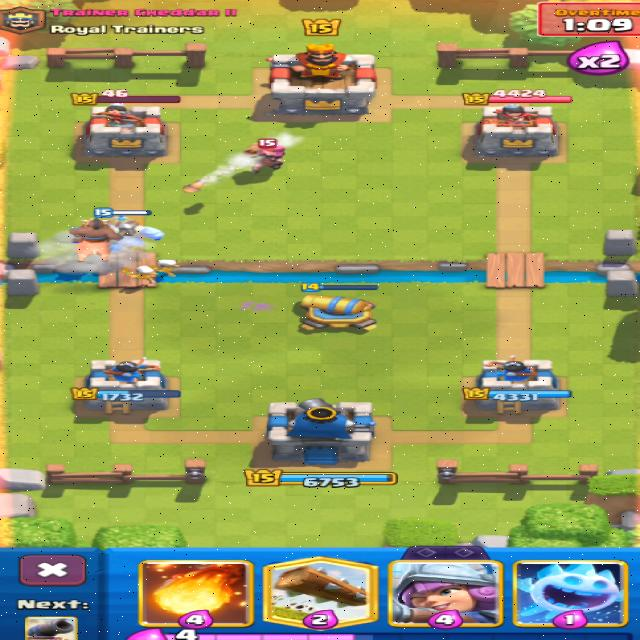Enemy-Firecracker: (243, 139, 284, 173)
Enemy-KingTower: (270, 44, 376, 115)
Enemy-PrincessTower: (473, 105, 557, 162), (82, 105, 167, 158)
Player-Cannon: (303, 295, 374, 329)
Player-HogRider: (70, 219, 122, 261)
Player-IceGolem: (110, 217, 164, 251)
Player-KingTower-Activated: (267, 399, 376, 465)
Player-PrincessTower: (71, 358, 180, 413), (475, 356, 570, 409)
Player-Skeleton: (124, 266, 155, 284), (157, 260, 176, 275)
